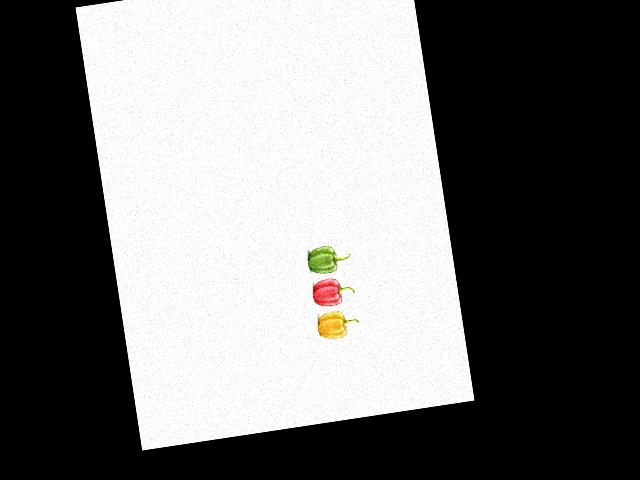bell_pepper: (303, 239, 352, 275)
